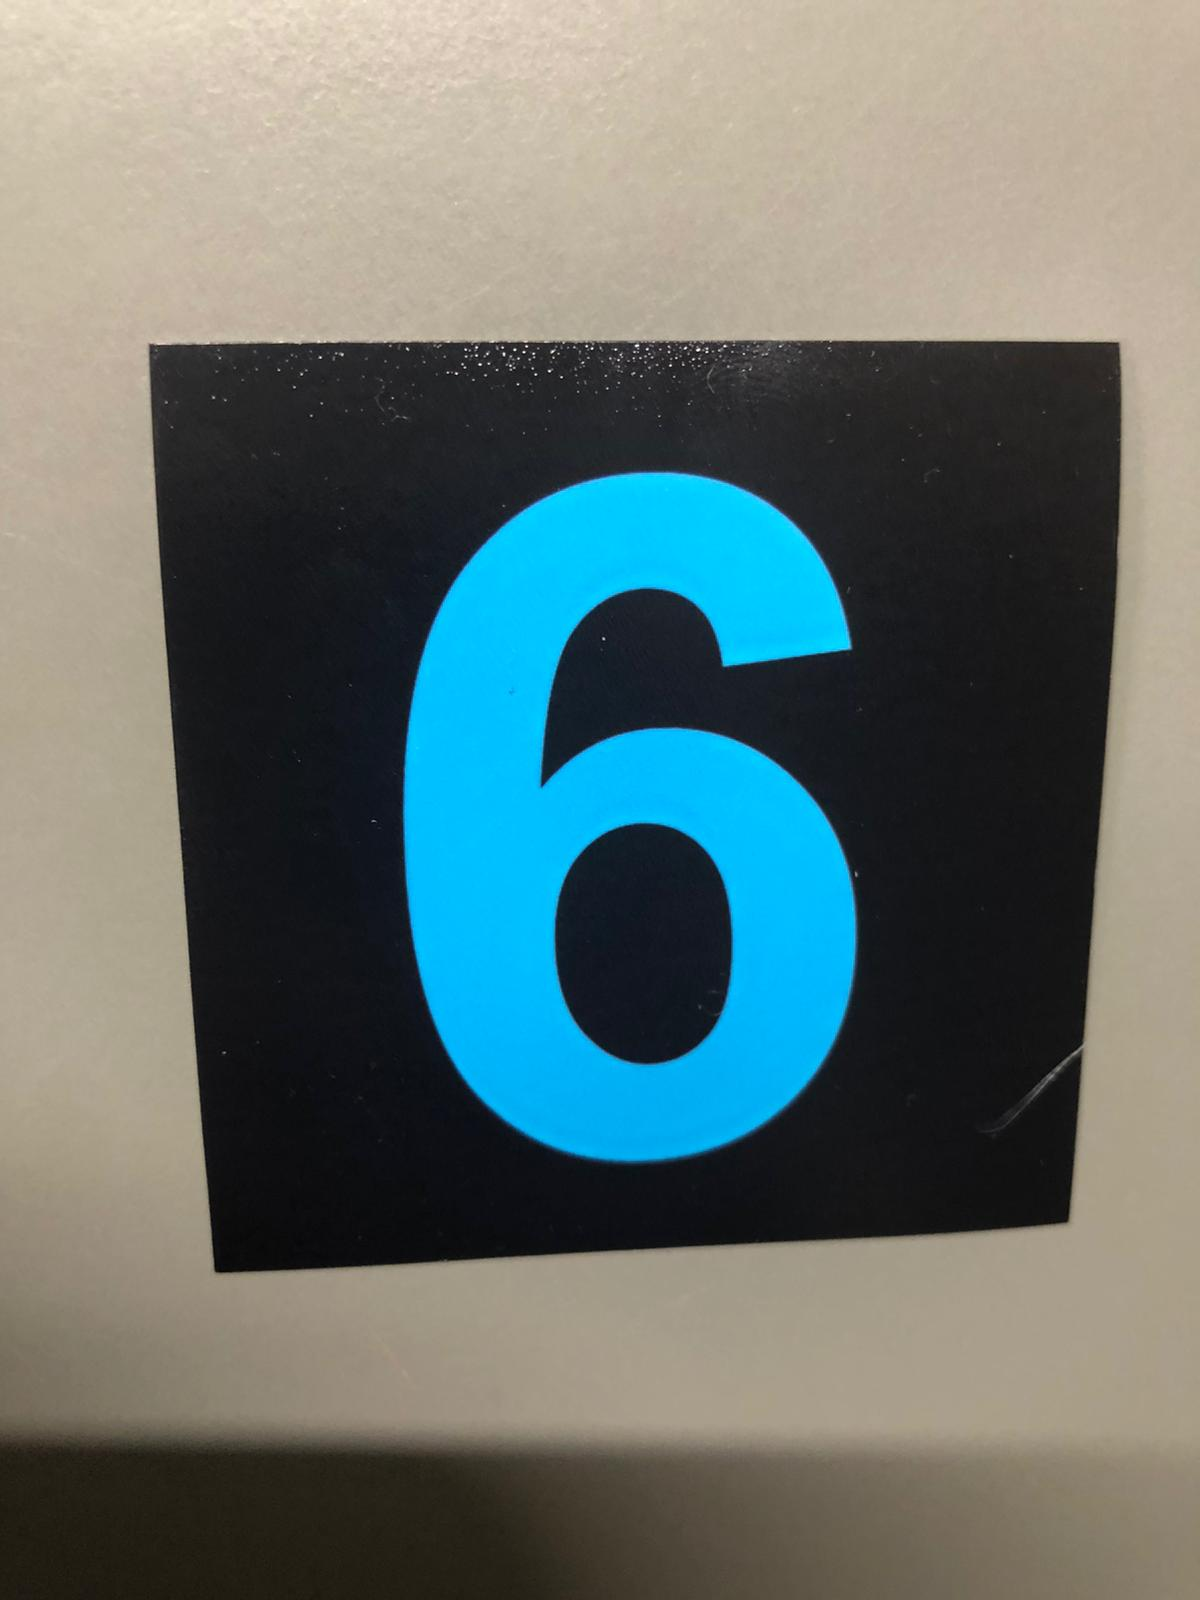Number 6: (179, 384, 1053, 1198)
